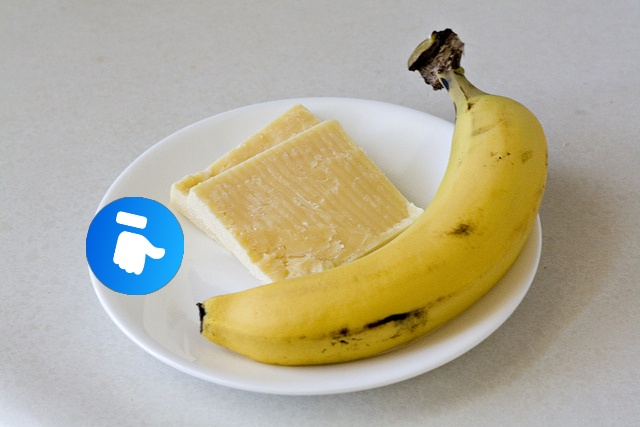like: (86, 197, 184, 295)
